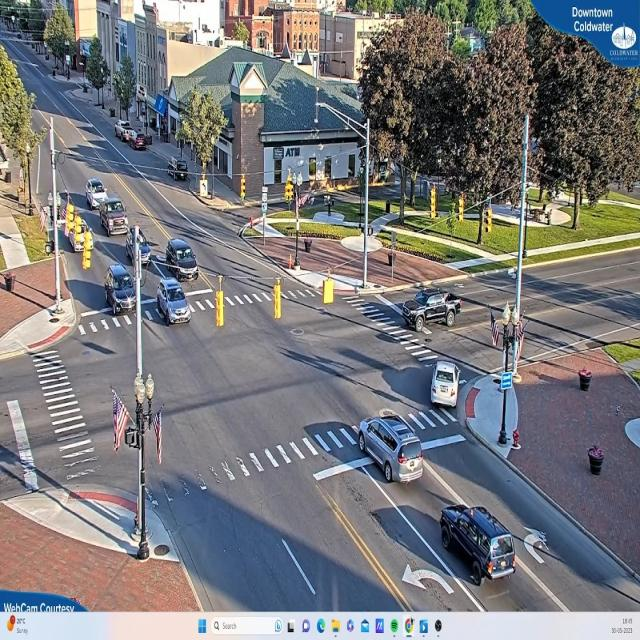car: (439, 502, 519, 584), (357, 415, 425, 484), (398, 280, 464, 329), (167, 229, 202, 282), (430, 352, 460, 411), (157, 278, 192, 325), (100, 198, 129, 236), (86, 181, 110, 210), (167, 157, 189, 180), (132, 135, 148, 150)
